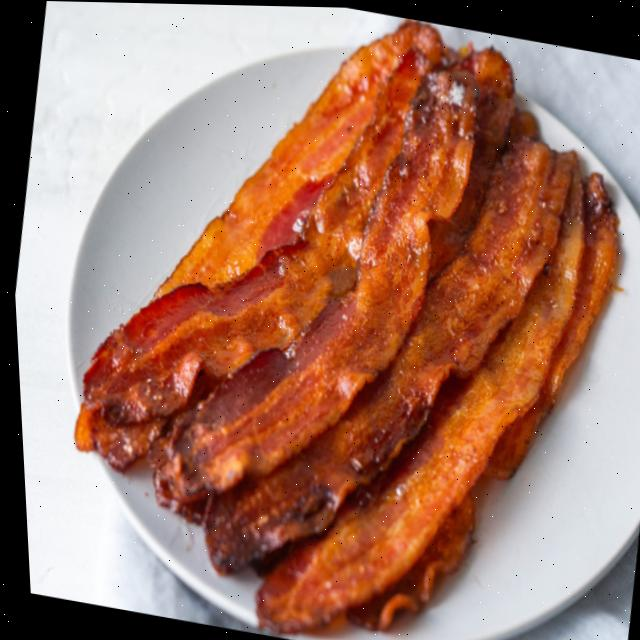Bacon: (200, 141, 532, 571), (151, 68, 477, 502), (250, 206, 581, 632), (79, 81, 409, 440), (286, 137, 572, 485), (150, 20, 443, 297), (480, 171, 617, 477), (425, 46, 515, 276), (341, 491, 470, 629), (254, 173, 331, 260), (70, 404, 163, 470), (506, 109, 537, 146)
